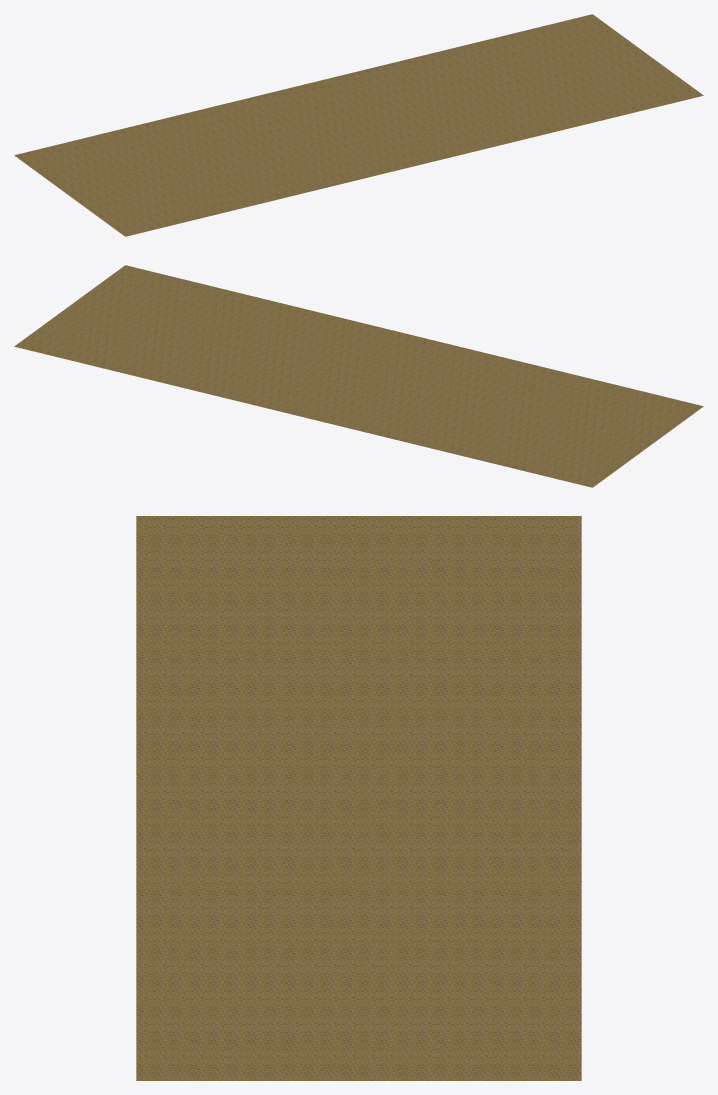
Rendered from Ground.fbx.
3 renders of one model, top to bottom at view 1: azimuth 30°, elevation 25°; view 2: azimuth 150°, elevation 25°; view 3: azimuth 270°, elevation 25°, orthographic. The views are drawn at different scales.
Parts seen in each view (by area): view 1: Ground; view 2: Ground; view 3: Ground.
Part boxes in pixels (x1,y1,x2,y2): Ground: (14, 14, 703, 236); Ground: (14, 265, 703, 487); Ground: (136, 516, 581, 1080).
Size of what is drawn, in the model's own units: 1500 by 8.15e-05 by 500.
